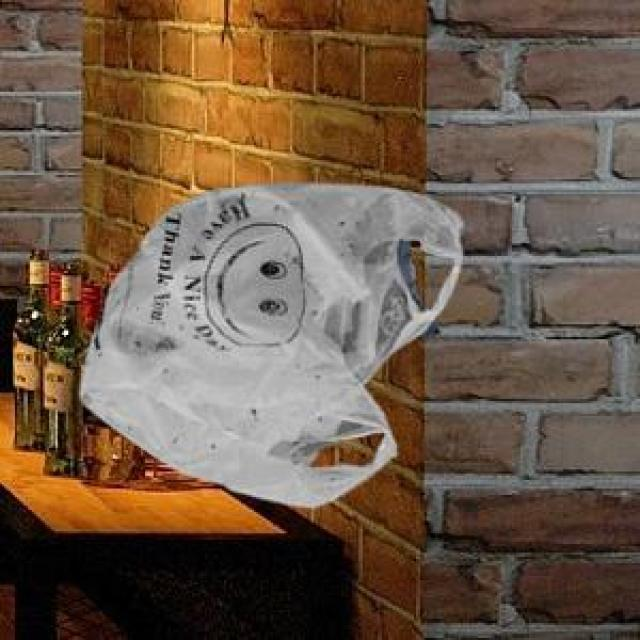miscellaneous trash: (393, 235, 435, 333)
